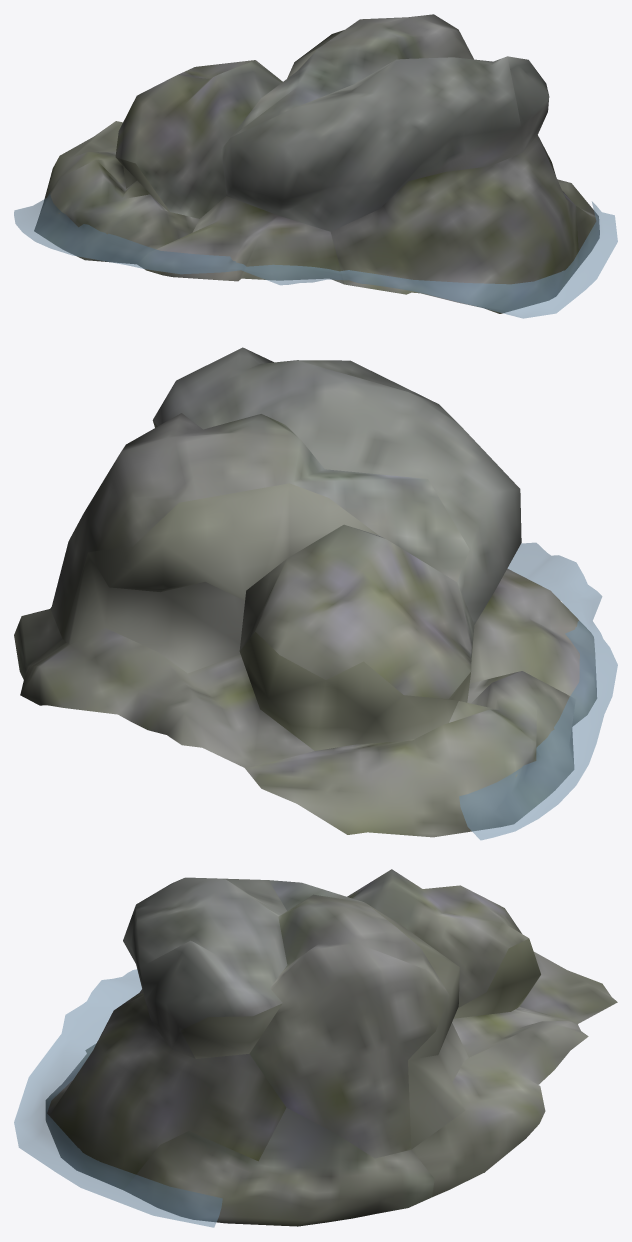
Rendered from river-rock.glb.
3 views of the same model, one above another, from view 1: azimuth 30°, elevation 25°; view 2: azimuth 150°, elevation 25°; view 3: azimuth 270°, elevation 25° (orthographic). The views are drawn at different scales.
Bounding box in the file's own units: 25.98 × 11 × 25.18.
2 materials, 1 textured.
